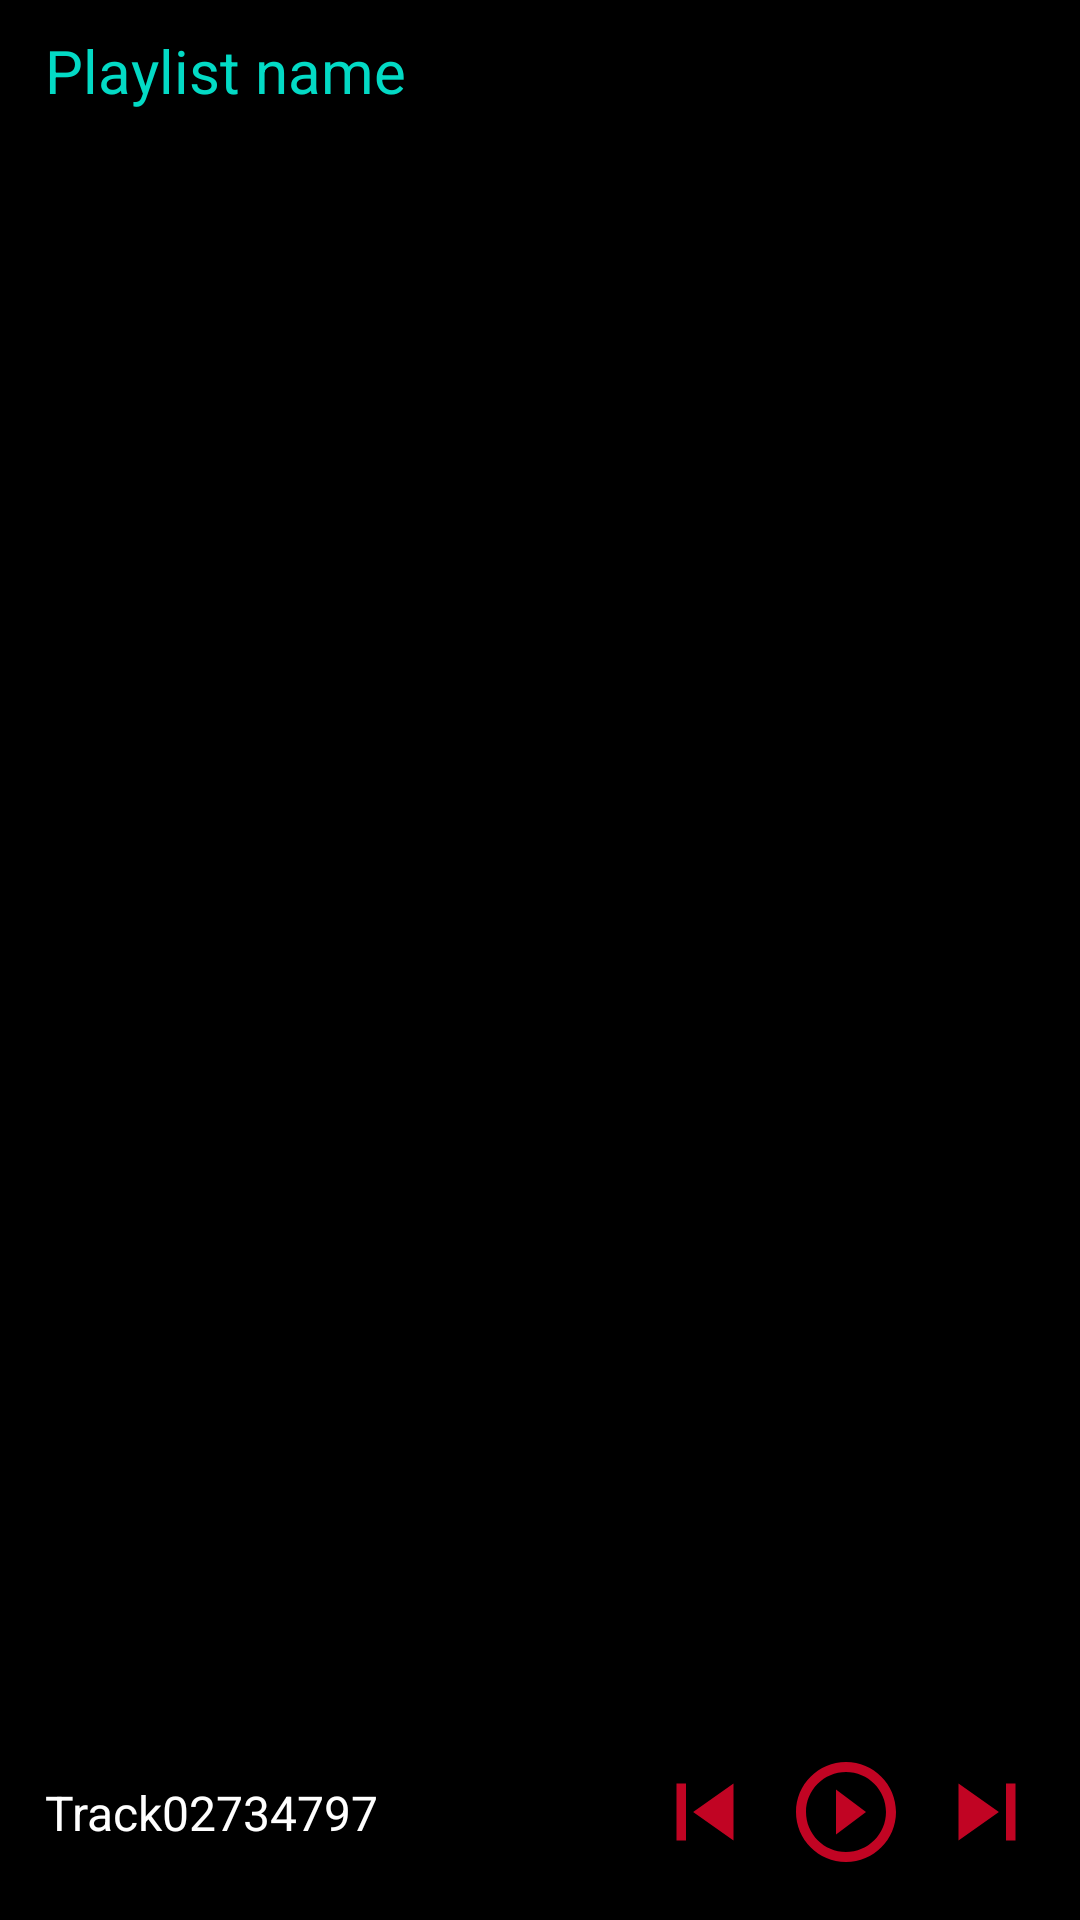

Screen size 1080 × 1920. Icon name, then its center in pixels as point (x, y):
nex bt mini: point (987, 1812)
prevous bt mini: point (705, 1812)
